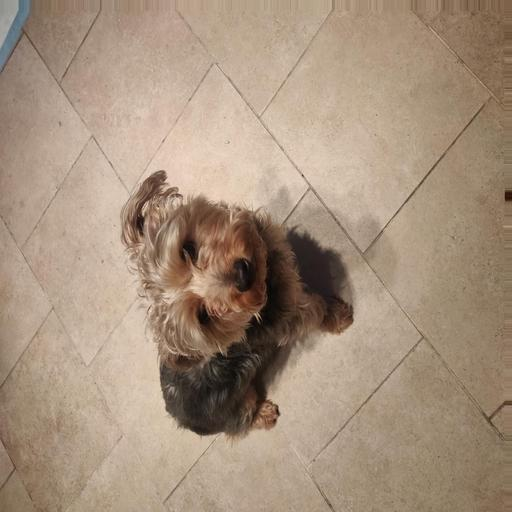dog: (107, 178, 347, 418)
